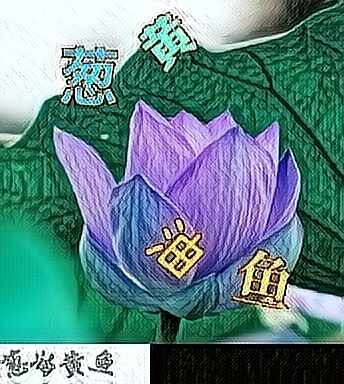B4D0: (58, 42, 118, 106)
BBC6: (139, 10, 199, 74)
D3CD: (147, 216, 207, 280)
D3E3: (229, 247, 289, 311)
